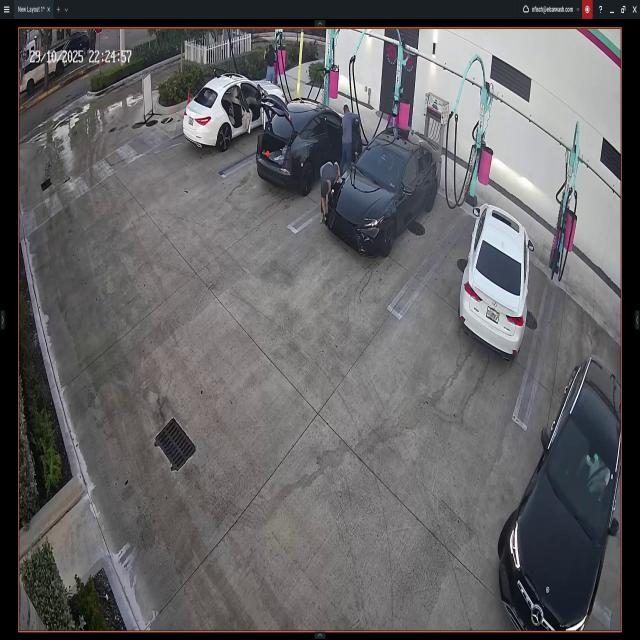Car: (494, 360, 621, 631), (322, 127, 442, 253), (460, 206, 528, 360), (254, 91, 360, 188), (182, 72, 286, 146)
